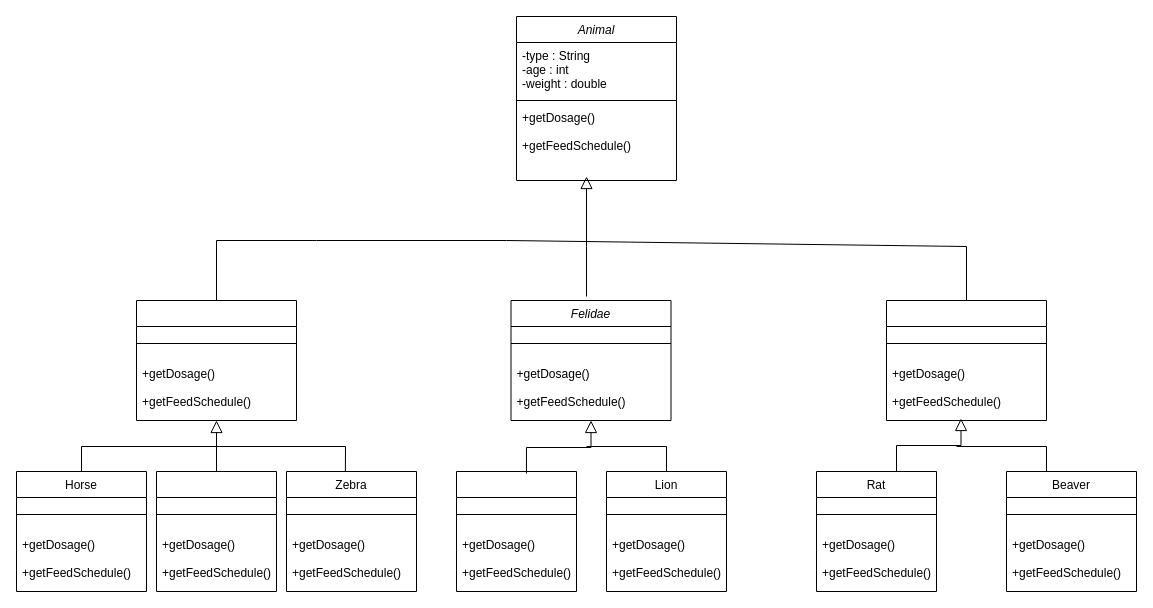
The diagram is 1153 pixels wide and 608 high, and some of its shapes have lost their labels. The box of each missing label's shape, as (x1, y1, x2, y2) in pixels:
Castoridae: (886, 300, 1046, 420)
Donkey: (156, 470, 276, 592)
Equidae: (136, 300, 296, 420)
Tiger: (456, 470, 576, 592)
